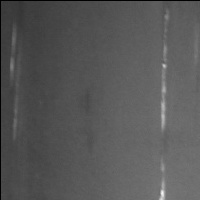inclusion: (80, 84, 96, 117)
scratches: (7, 20, 24, 140), (158, 13, 174, 133), (156, 158, 170, 200)
